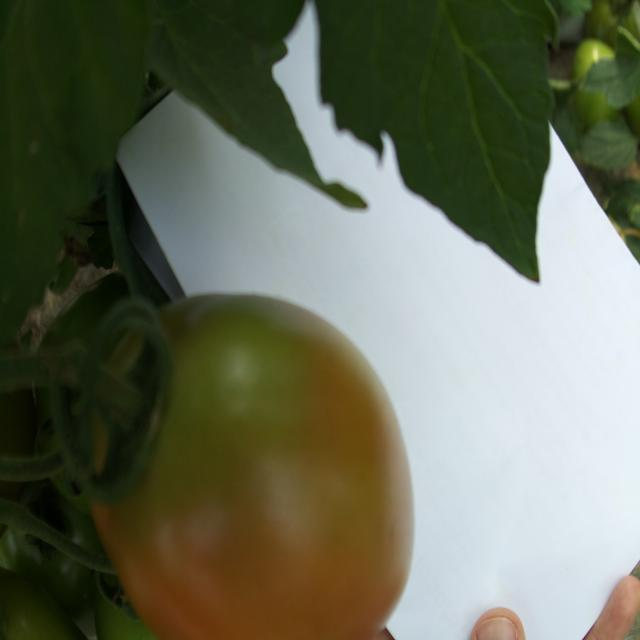sari: (8, 181, 426, 640)
